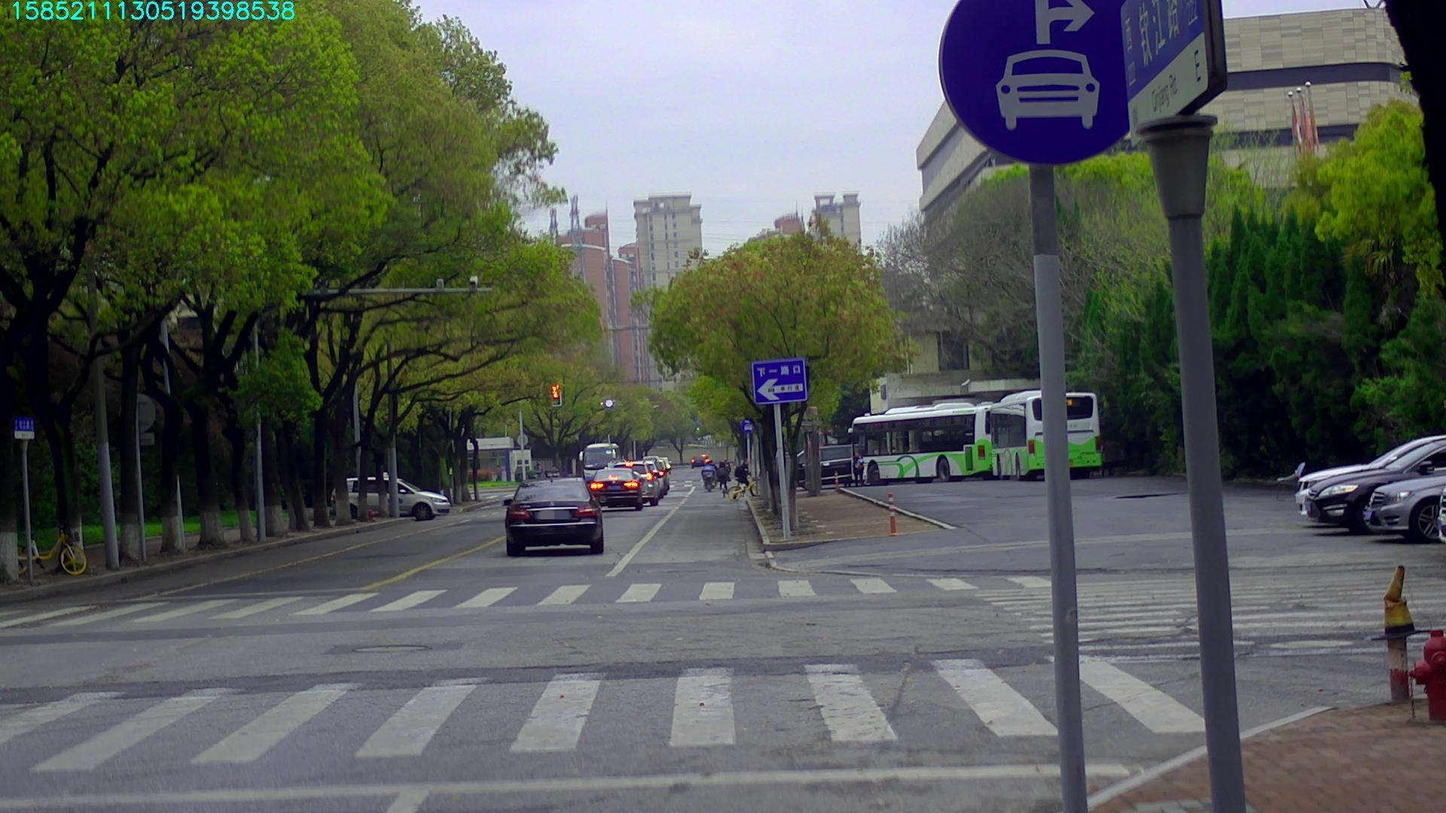red: (550, 382, 560, 405)
